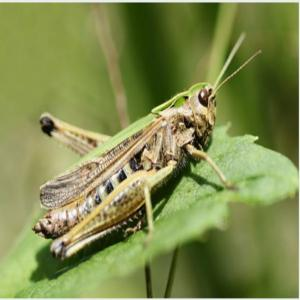locust: (39, 76, 253, 261)
